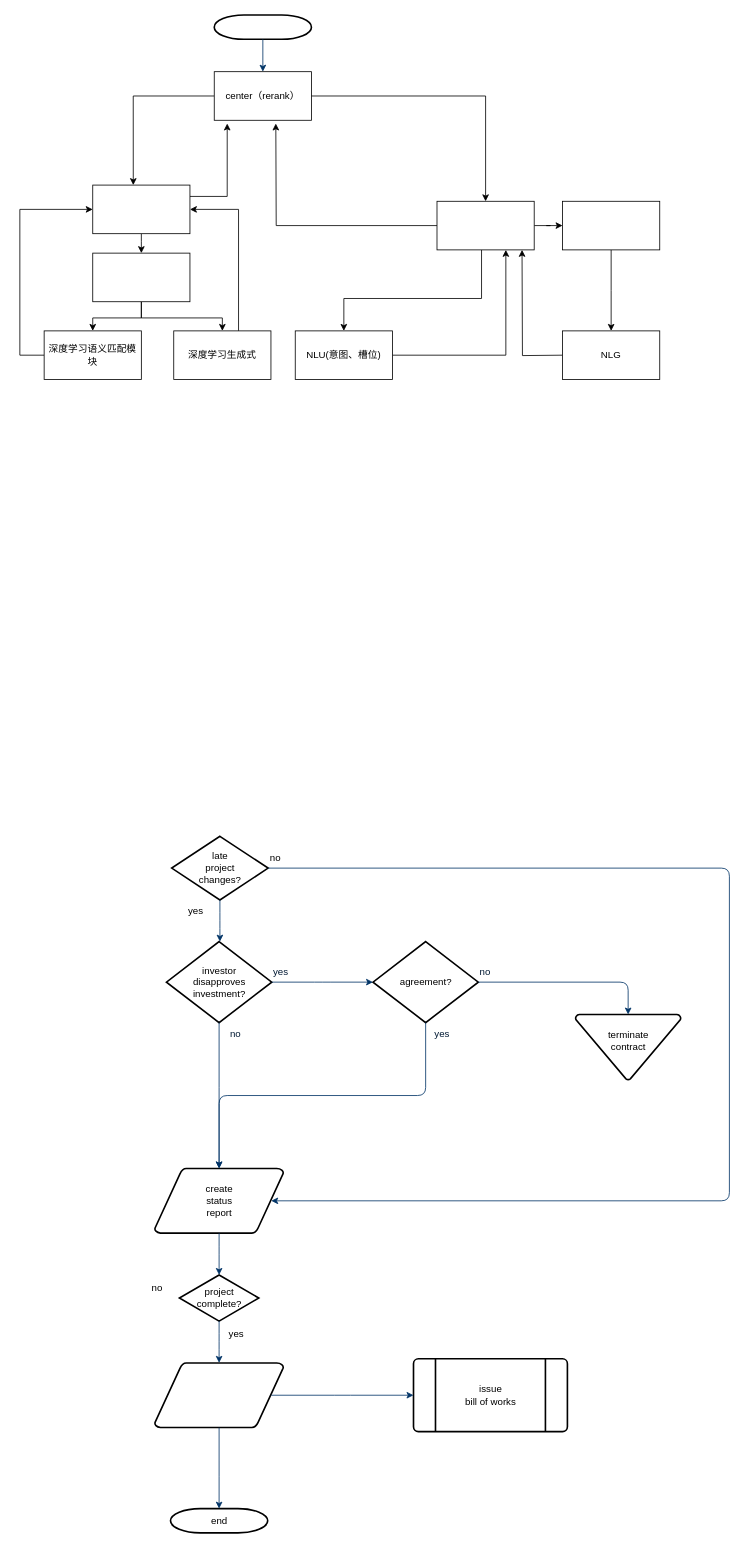
This 750x1547 diagram has some shape labels left out. The shapes that lost their labels are listed below. From the top down, each one's box as (x1, y1, x2, y2) in pixels, then its label:
(213, 14, 312, 40): query
(92, 184, 190, 234): DM1（闲聊类）
(436, 200, 534, 250): DM3（非闲聊）
(562, 200, 660, 250): adapter （图数据库）
(92, 252, 190, 302): classify
(153, 1362, 284, 1428): create final report
